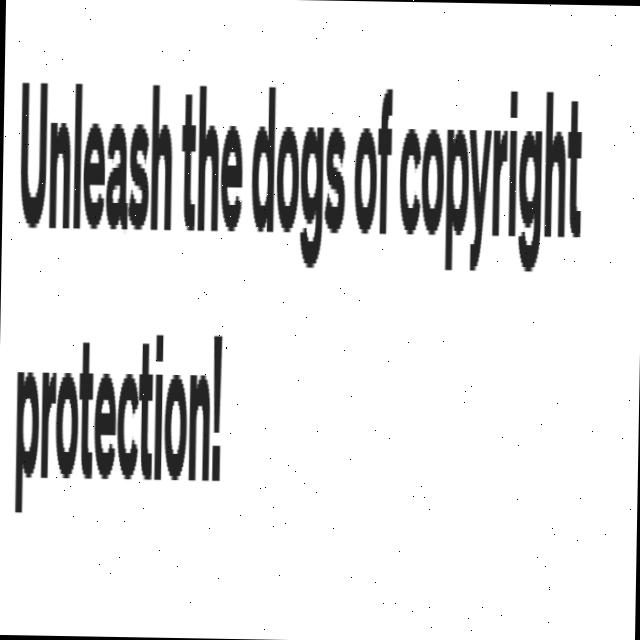word: (5, 310, 241, 575), (394, 58, 599, 305), (15, 58, 179, 254), (246, 71, 354, 294), (176, 76, 250, 268), (344, 65, 400, 302)
